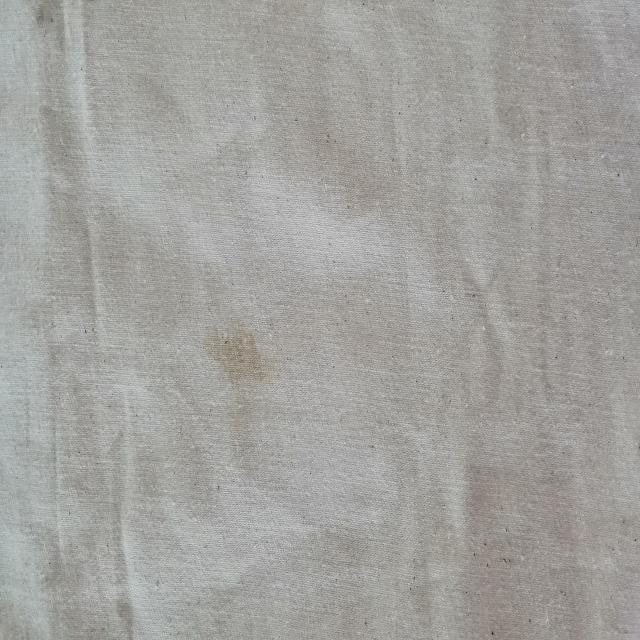taaaches: (204, 294, 264, 409)
